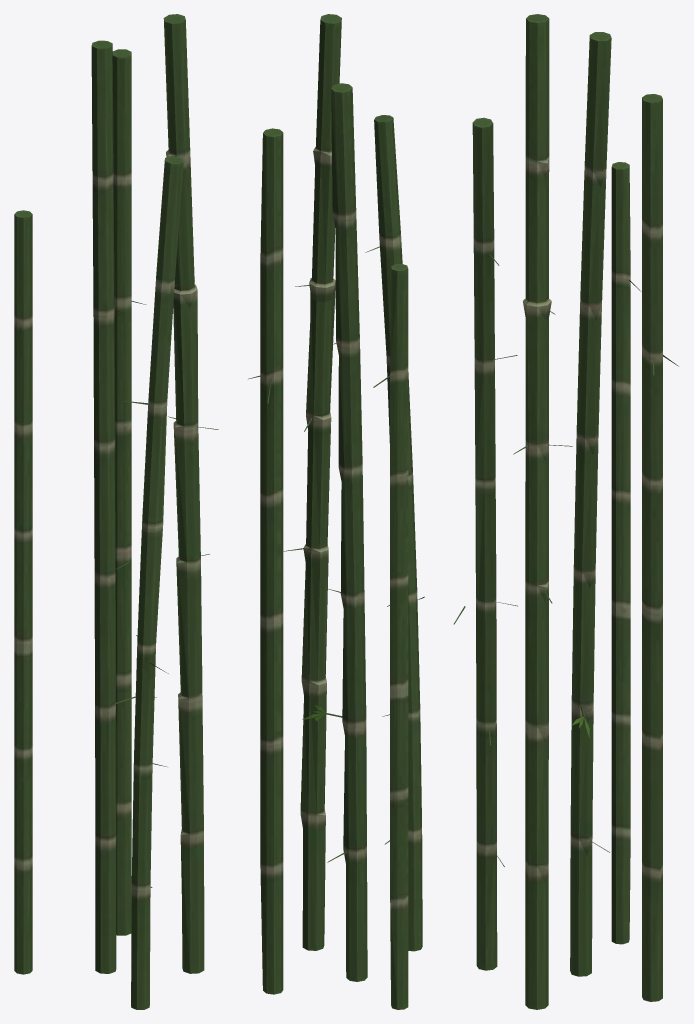
Rendered from bamboo.glb.
The picture shows the model from 3 angles, left to right: view 1: azimuth 30°, elevation 25°; view 2: azimuth 150°, elevation 25°; view 3: azimuth 270°, elevation 25°; orthographic projection. The views are drawn at different scales.
Parts seen in each view (by area): view 1: BambooTree_mesh; view 2: BambooTree_mesh; view 3: BambooTree_mesh.
Boxes of the visible parts, x1,y1,x2,y2 form: BambooTree_mesh: [14, 14, 218, 1009]; BambooTree_mesh: [248, 14, 424, 1009]; BambooTree_mesh: [453, 14, 678, 1009].
Bounding box in the file's own units: 3.19 × 18.13 × 3.8.
1 material, 1 textured.
